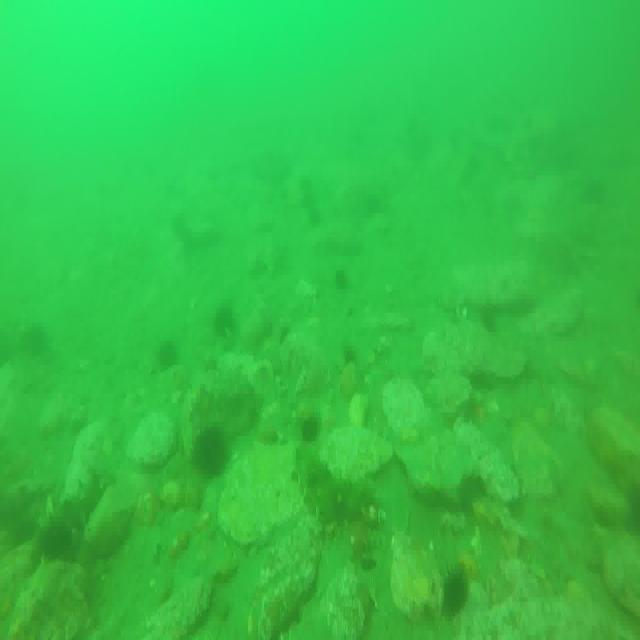echinus: (189, 424, 223, 474), (436, 560, 465, 612), (46, 518, 68, 570), (216, 303, 239, 342), (300, 410, 322, 442), (158, 339, 174, 366), (336, 264, 350, 292)
holothurian: (294, 437, 374, 522), (38, 469, 107, 535)
